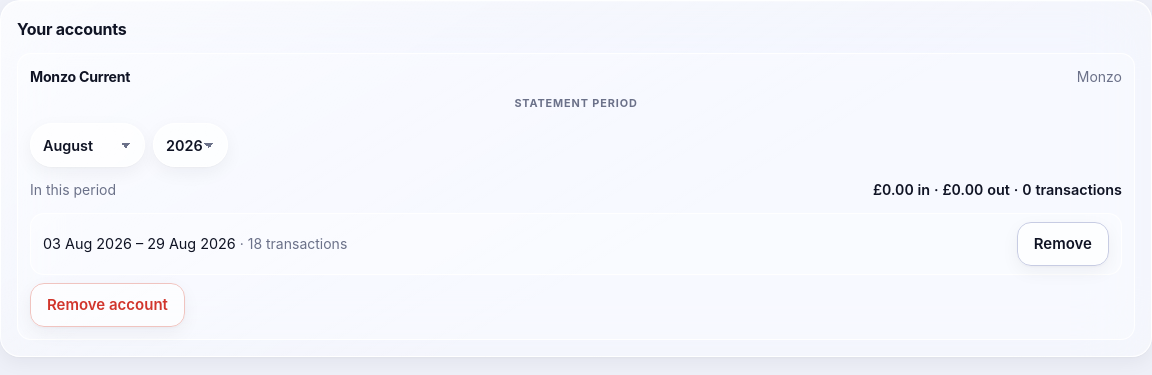
Test: accounts and their statements › never overwrites a month the user already chose, even once statement data reloads
Note: The user deliberately picks July instead.
Select "July" in the dropdown named "Statement month" at point(88, 145), box x1=30 y1=123 x2=145 y2=167
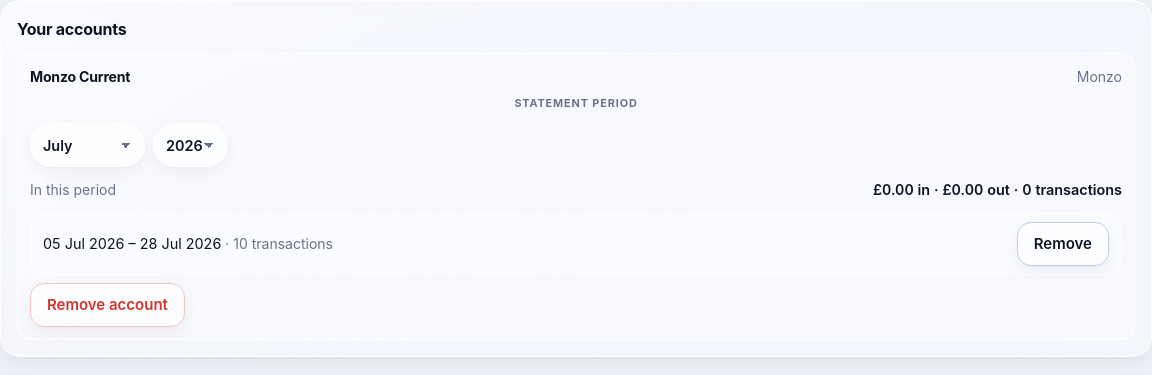
Expected: the text "05 Jul 2026 – 28 Jul 2026 · 10 transactions" is shown, x1=43 y1=233 x2=333 y2=255
Note: Deleting the July statement forces the statement list to reload.
Click the button "Remove" at point(1063, 244), box x1=1017 y1=222 x2=1109 y2=266
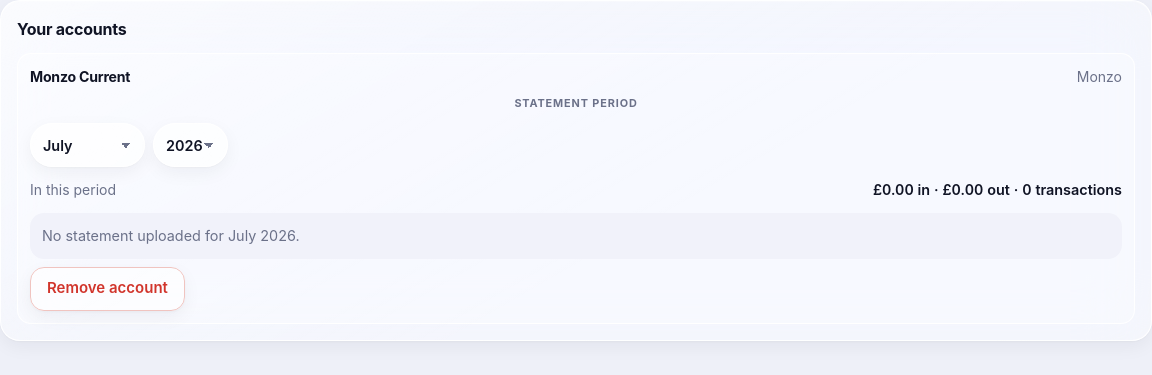
Expected: the text "No statement uploaded for July 2026." is shown, x1=30 y1=213 x2=1122 y2=259
